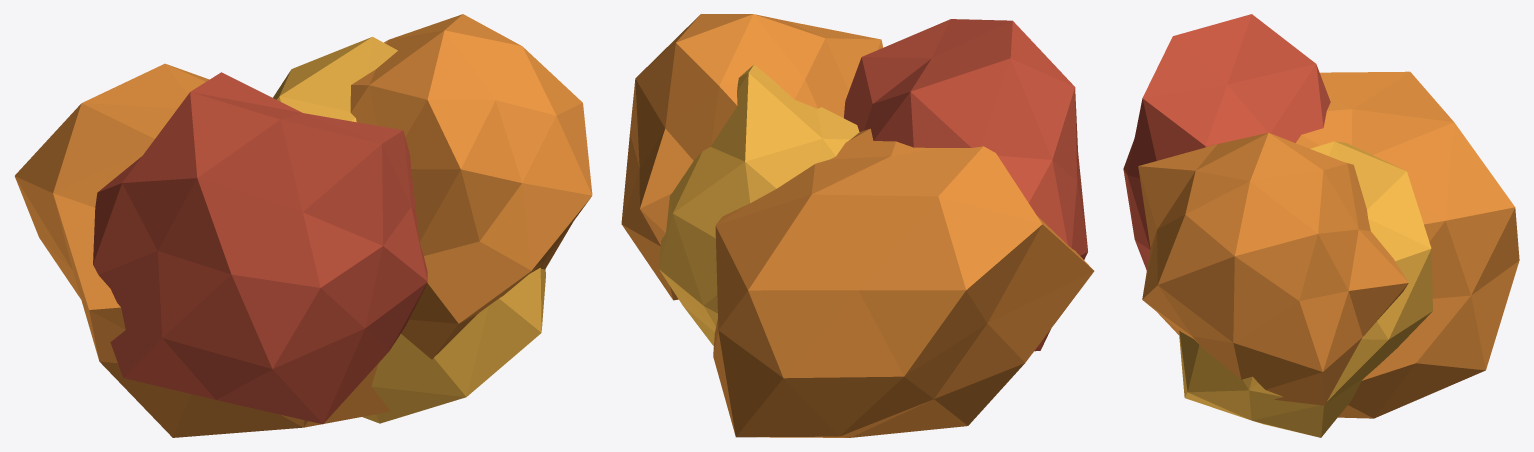
The model's file is bush-autumn.glb.
The picture shows the model from 3 angles, left to right: view 1: azimuth 30°, elevation 25°; view 2: azimuth 150°, elevation 25°; view 3: azimuth 270°, elevation 25°; orthographic projection. The views are drawn at different scales.
Parts seen in each view (by area): view 1: bush; view 2: bush; view 3: bush.
Part boxes in pixels (box(x1,y1,x2,y2)): bush: box(14, 14, 592, 437); bush: box(621, 14, 1094, 437); bush: box(1123, 14, 1519, 437).
Size of the model in its own units: 1.83 by 1.41 by 1.54.
